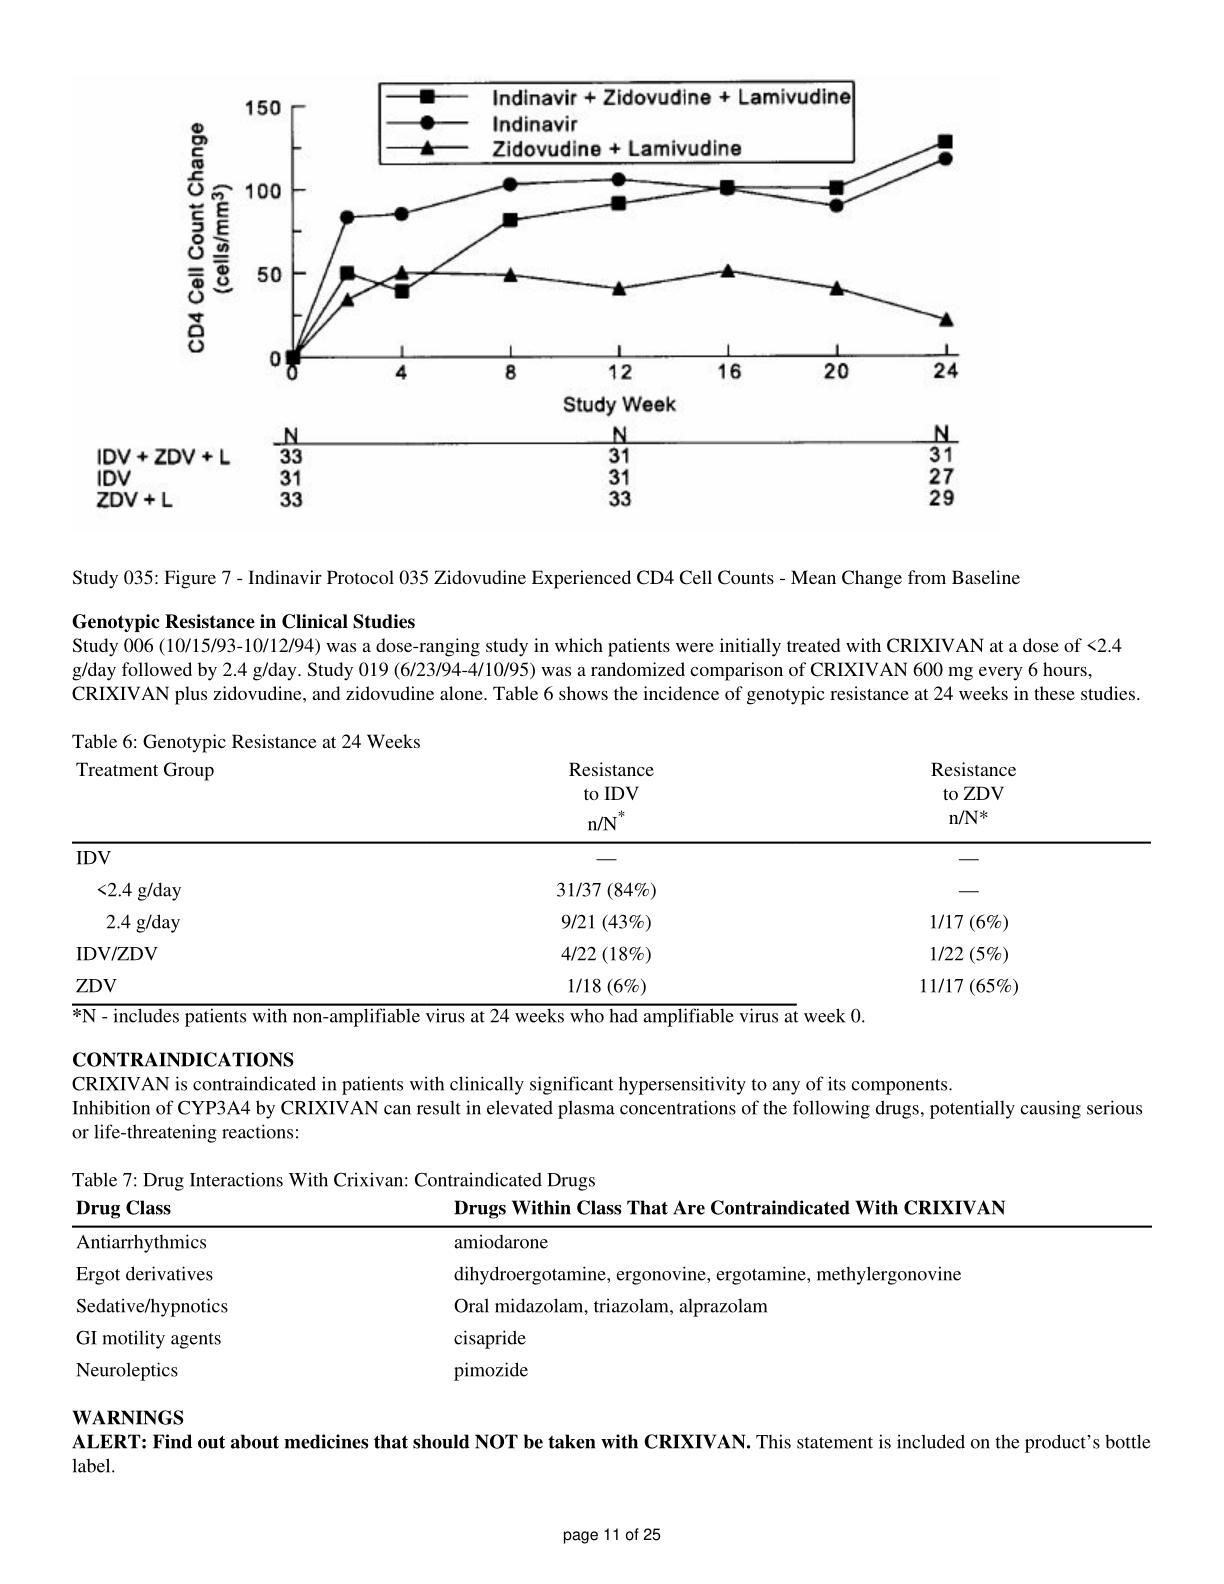partial_lined: (69, 759, 1153, 1004), (69, 1194, 1151, 1382)
